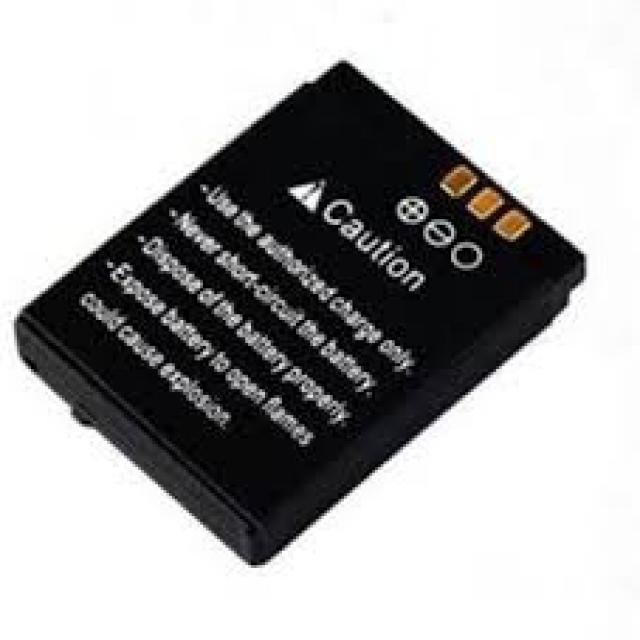non-organic waste: (15, 54, 586, 564)
